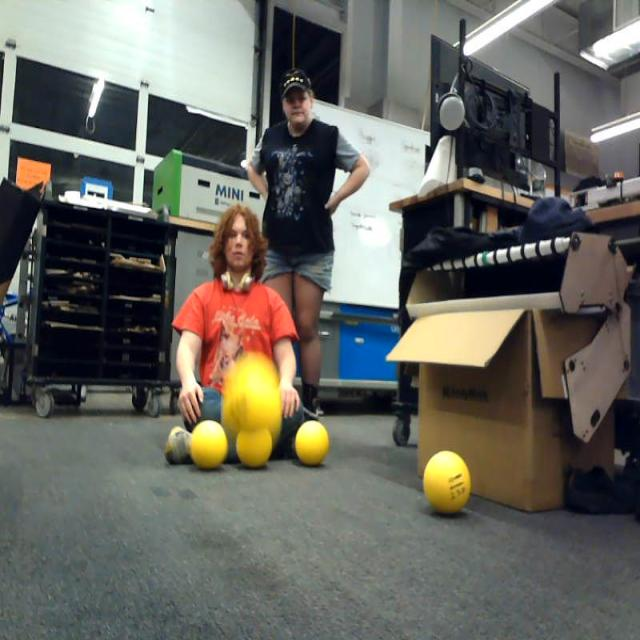Fuel: (224, 358, 281, 433), (423, 451, 471, 514), (191, 420, 228, 470), (236, 423, 272, 468), (295, 421, 330, 465)
